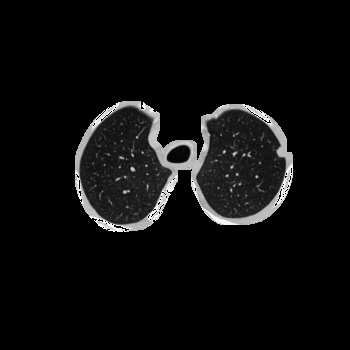PN: (277, 148, 285, 156)
